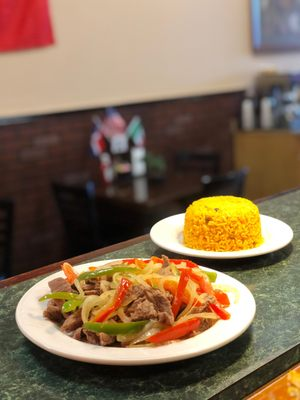sandwich: (204, 341, 300, 400)
